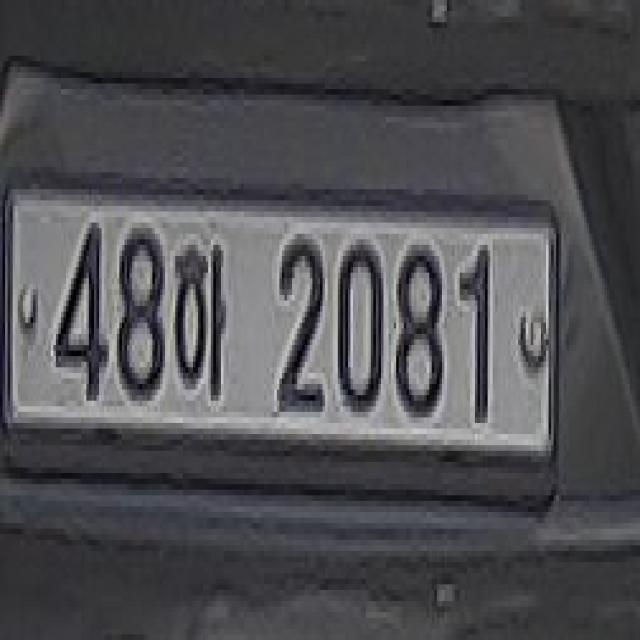plat: (3, 179, 562, 495)
